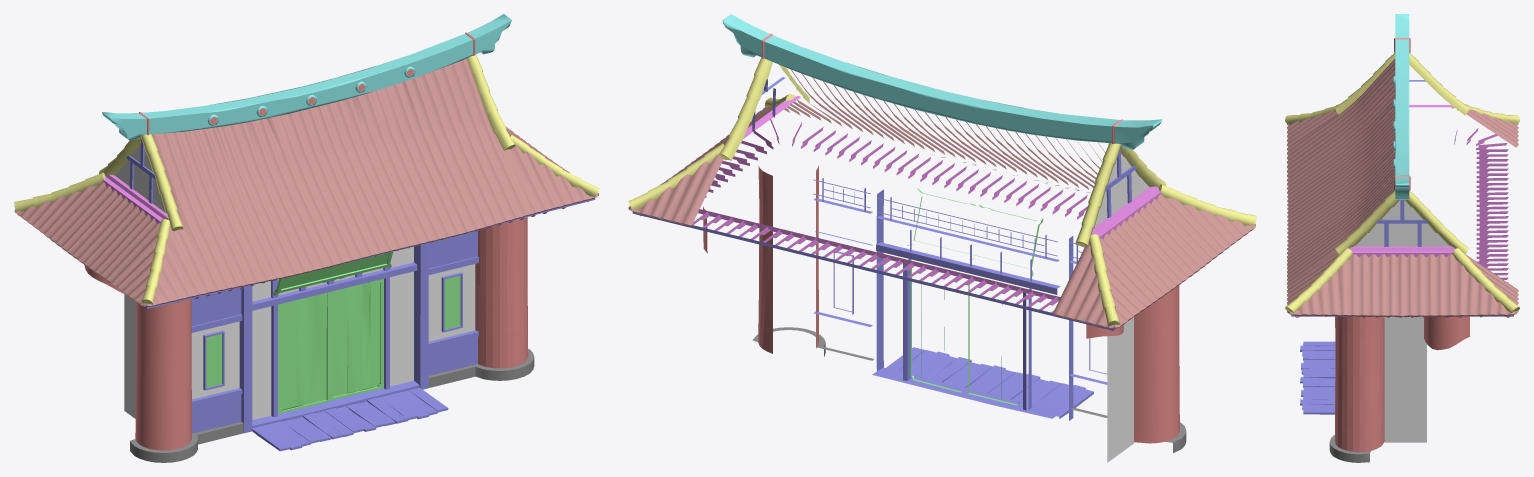
Rendered from SM_ENV_LKNVLD_Hokage_Gate_Front_Lod2.gltf.
3 views of the same model, side by side, from view 1: azimuth 30°, elevation 25°; view 2: azimuth 150°, elevation 25°; view 3: azimuth 270°, elevation 25° (orthographic). The views are drawn at different scales.
Parts seen in each view (by area): view 1: SM_ENV_LKNVLD_Hokage_Gate_Front_Lod2; view 2: SM_ENV_LKNVLD_Hokage_Gate_Front_Lod2; view 3: SM_ENV_LKNVLD_Hokage_Gate_Front_Lod2.
Part boxes in pixels (x1,y1,x2,y2): SM_ENV_LKNVLD_Hokage_Gate_Front_Lod2: (14, 14, 599, 462); SM_ENV_LKNVLD_Hokage_Gate_Front_Lod2: (628, 14, 1256, 462); SM_ENV_LKNVLD_Hokage_Gate_Front_Lod2: (1285, 14, 1519, 462).
Bounding box in the file's own units: 16.34 × 11.08 × 8.37.
